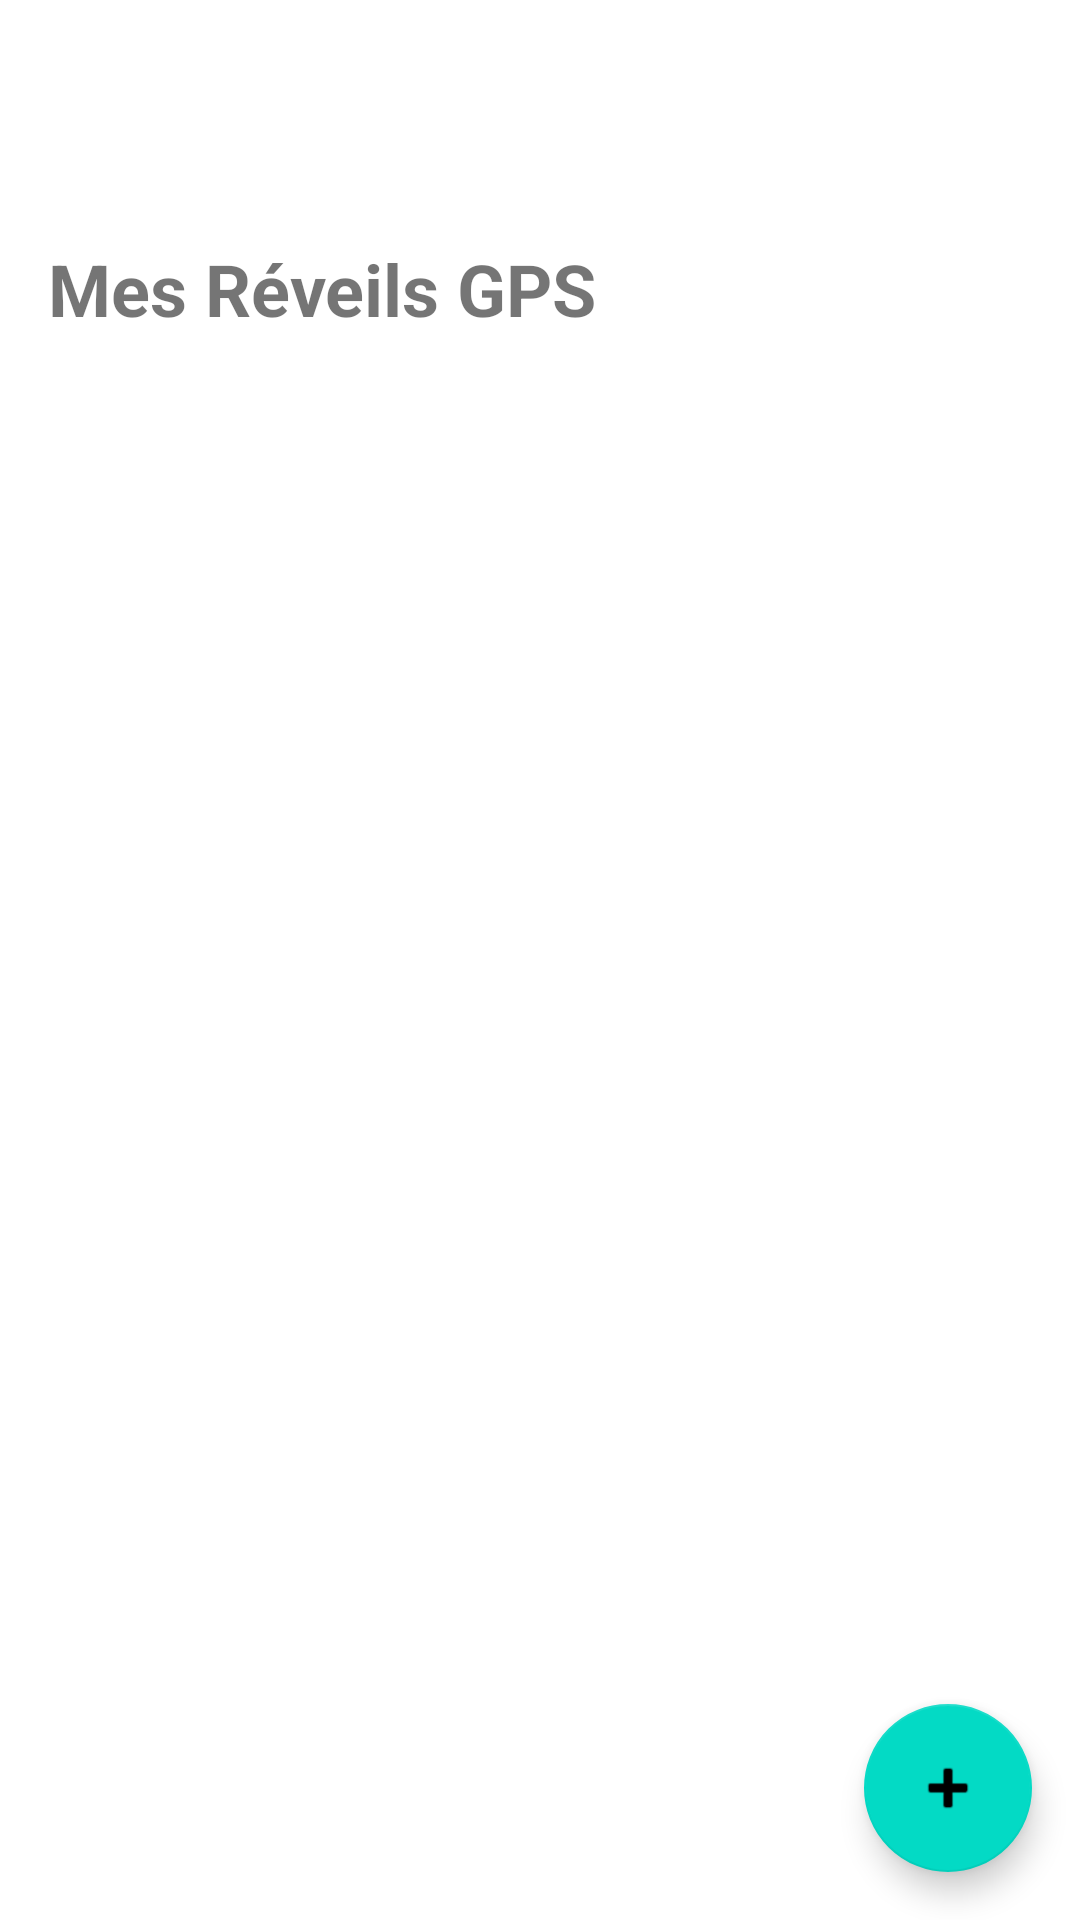

Where to tap for icons on this 1080×1920 app screen, as point (x, y):
Ajouter une alarme: point (948, 1788)
